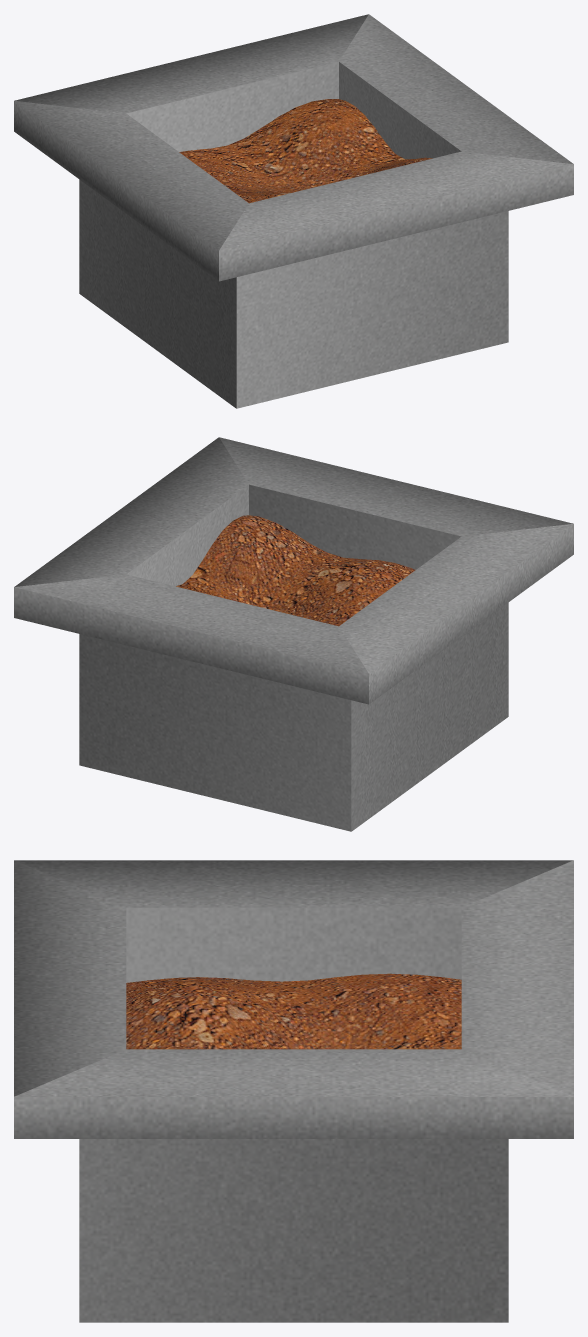
Rendered from bloompot1.fbx.
3 views of the same model, one above another, from view 1: azimuth 30°, elevation 25°; view 2: azimuth 150°, elevation 25°; view 3: azimuth 270°, elevation 25° (orthographic). The views are drawn at different scales.
Parts seen in each view (by area): view 1: pCube1, pPlane1; view 2: pCube1, pPlane1; view 3: pCube1, pPlane1.
Part boxes in pixels (box(x1,y1,x2,y2)): pCube1: box(14, 14, 573, 408); pPlane1: box(179, 99, 432, 203); pCube1: box(14, 437, 573, 831); pPlane1: box(176, 515, 415, 626); pCube1: box(14, 860, 573, 1322); pPlane1: box(126, 973, 461, 1049).
Size of the model in its own units: 2.61 by 1.3 by 2.61.
